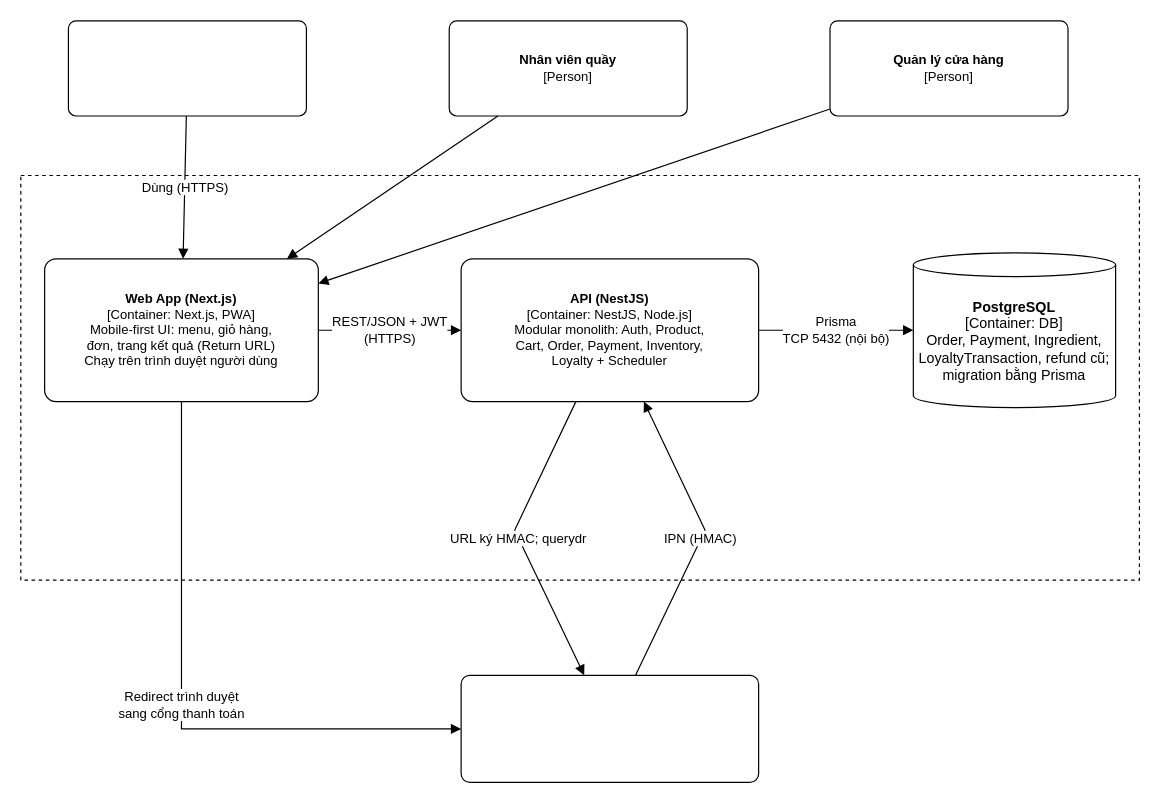
Image size: 1160x803. Some labels were removed from this diagram. The shapes that lost their labels are listed below. From the top down, each one's box as (x1, y1, x2, y2) in pixels, then its label:
(67, 20, 306, 116): Khách hàng [Person]
(20, 174, 1139, 580): BrewLite (hệ thống đang xây dựng)
(460, 674, 759, 782): VNPay Sandbox [External System] Cổng thanh toán thử nghiệm
